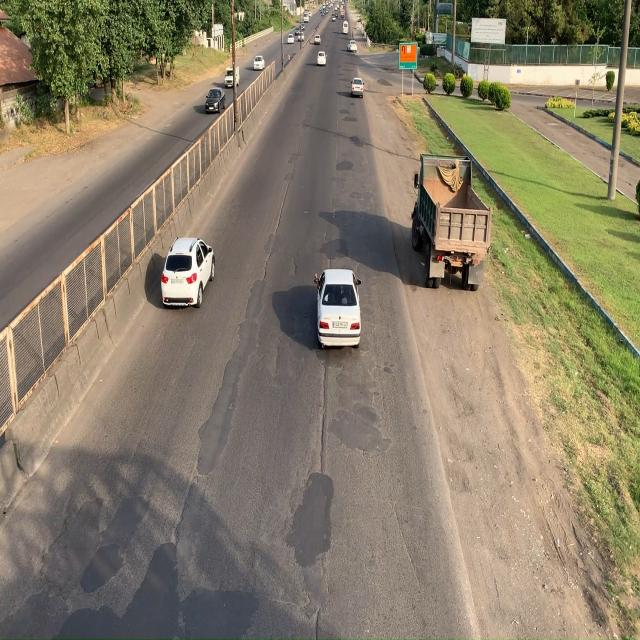Truck: (414, 148, 499, 290)
cars: (158, 237, 216, 313), (314, 265, 364, 353)
